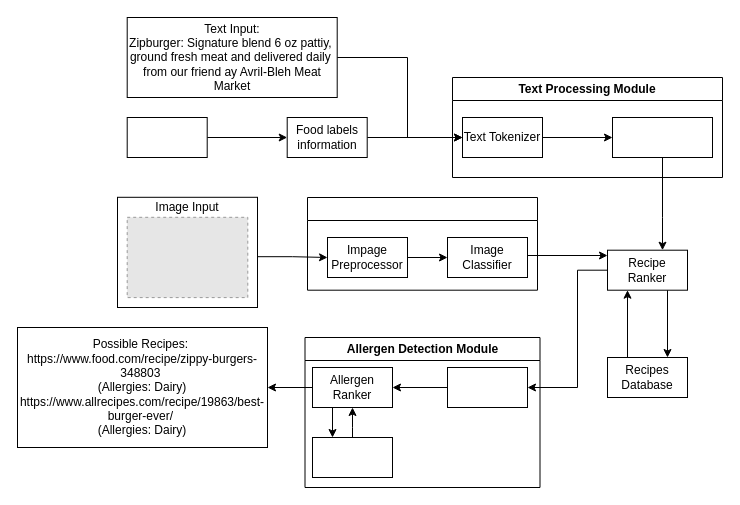
Image size: 740x505. Some labels were removed from this diagram. Grey dashed boxes stand in for pictures. Each missing label, with the box of its shape:
Allergen Database: (312, 436, 392, 478)
Barcode Scan: (126, 116, 207, 158)
Image Processing Module: (306, 196, 538, 290)
Natural Language Model: (612, 116, 712, 158)
Text Parser: (446, 366, 528, 408)
